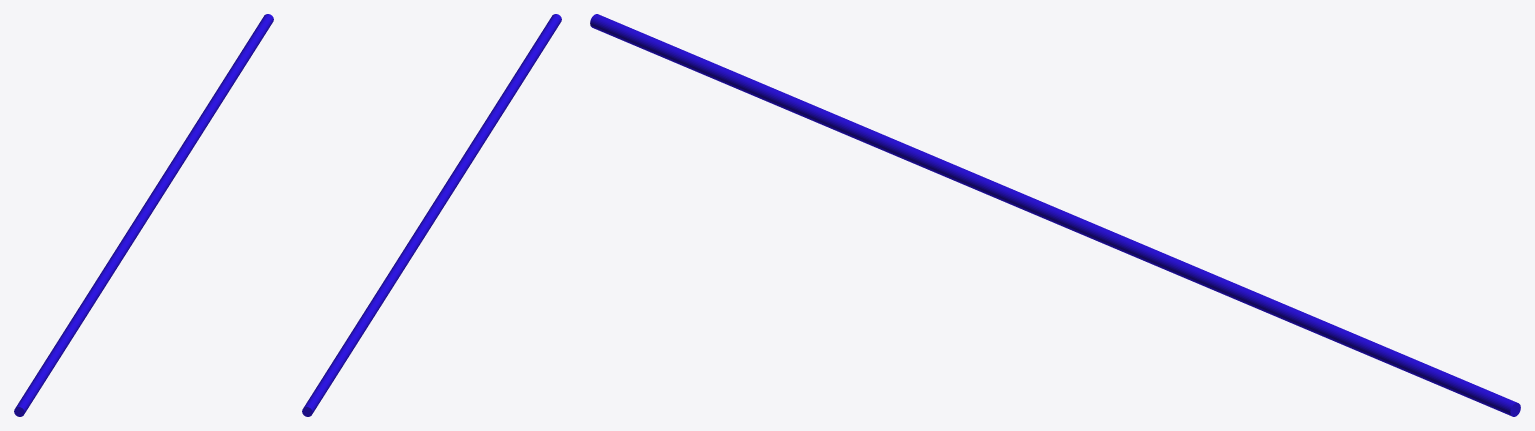
3 renders of one model, left to right at view 1: azimuth 30°, elevation 25°; view 2: azimuth 210°, elevation 25°; view 3: azimuth 270°, elevation 25°, orthographic. The views are drawn at different scales.
Parts seen in each view (by area): view 1: Циліндр.003; view 2: Циліндр.003; view 3: Циліндр.003.
Part boxes in pixels (left/top/right/bottom): Циліндр.003: left=14, top=14, right=273, bottom=416; Циліндр.003: left=302, top=14, right=561, bottom=416; Циліндр.003: left=590, top=14, right=1520, bottom=416.
Size of the model in its own units: 6.07 by 0.0964 by 6.07.
